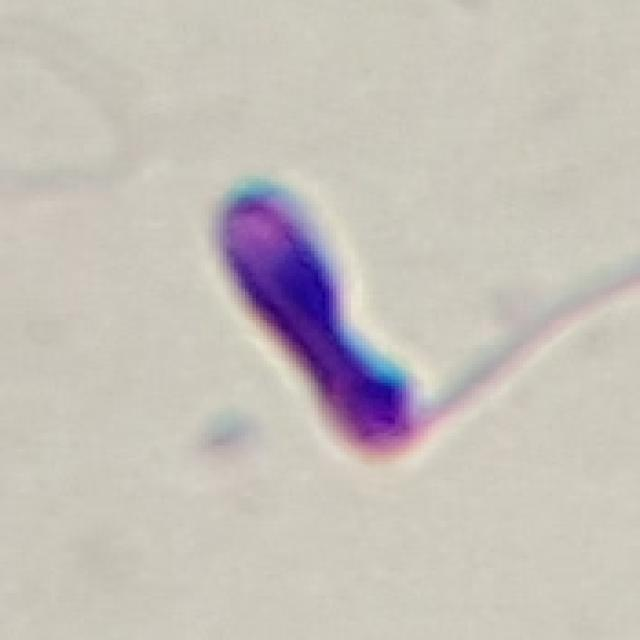abnormal sperm: (212, 176, 517, 466)
